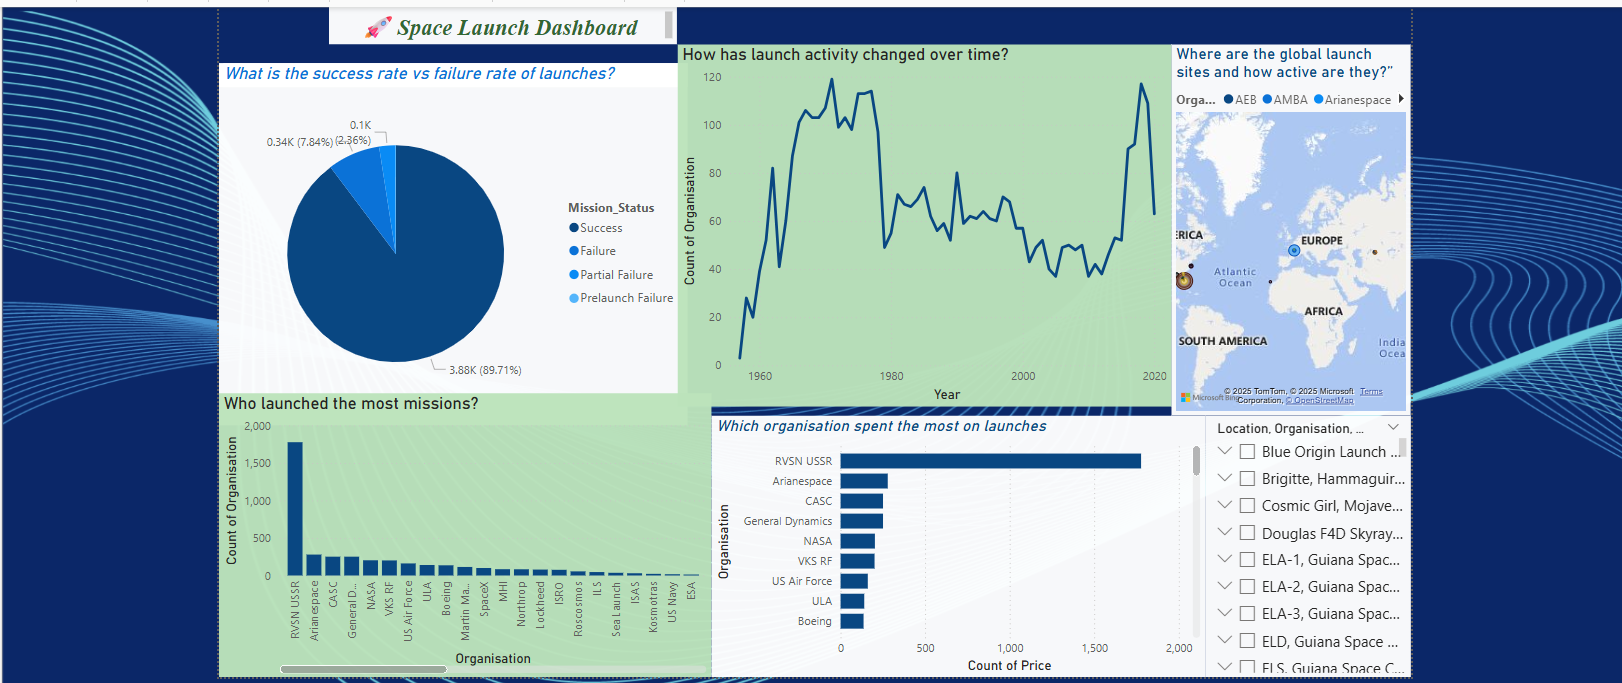

Layout of this report page (visuals, bound fields, positions):
{"tool":"powerbi","page":{"name":"Page 1","canvas":[1280,720],"ordinal":0},"visuals":[{"type":"pieChart","title":"What is the success rate vs failure rate of launches?","fields":{"Category":["space_mission_cleaned (1).Mission_Status"],"Y":["CountNonNull(space_mission_cleaned (1).Organisation)"]},"box":[0,60,502.9,388.6],"z":0},{"type":"clusteredColumnChart","title":"Who launched the most missions?","fields":{"Category":["space_mission_cleaned (1).Organisation"],"Y":["CountNonNull(space_mission_cleaned (1).Organisation)"]},"box":[0,414.3,528.6,305.7],"z":1000},{"type":"lineChart","title":"How has launch activity changed over time?","fields":{"Y":["CountNonNull(space_mission_cleaned (1).Organisation)"],"Category":["space_mission_cleaned (1).Date.Variation.Date Hierarchy.Year","space_mission_cleaned (1).Date.Variation.Date Hierarchy.Month"]},"box":[492.9,40,530,388.6],"z":2000},{"type":"clusteredBarChart","title":"Which organisation spent the most on launches","fields":{"Category":["space_mission_cleaned (1).Organisation"],"Y":["CountNonNull(space_mission_cleaned (1).Price)"]},"box":[528.6,438.6,530,281.4],"z":3000},{"type":"map","title":"Where are the global launch sites and how active are they?”","fields":{"Category":["space_mission_cleaned (1).Location"],"Size":["Sum(space_mission_cleaned (1).Price)"],"Series":["space_mission_cleaned (1).Organisation"]},"box":[1022.9,40,257.1,398.6],"z":4000},{"type":"slicer","fields":{"Values":["space_mission_cleaned (1).Location","space_mission_cleaned (1).Organisation","space_mission_cleaned (1).Mission_Status"]},"box":[1059,439,221,281],"z":5000},{"type":"textbox","box":[118.8,0,373.8,40],"z":6000}]}

Visuals, with their boxes in screenshot pixels (x1, y1, x2, y2):
"What is the success rate vs failure rate of launches?" pieChart: Rect(211, 56, 683, 420)
"Who launched the most missions?" clusteredColumnChart: Rect(211, 388, 707, 675)
"How has launch activity changed over time?" lineChart: Rect(673, 37, 1170, 402)
"Which organisation spent the most on launches" clusteredBarChart: Rect(707, 411, 1203, 675)
"Where are the global launch sites and how active are they?”" map: Rect(1170, 37, 1411, 411)
slicer - space_mission_cleaned (1).Location x space_mission_cleaned (1).Organisation: Rect(1204, 411, 1411, 675)
textbox: Rect(323, 0, 673, 37)
